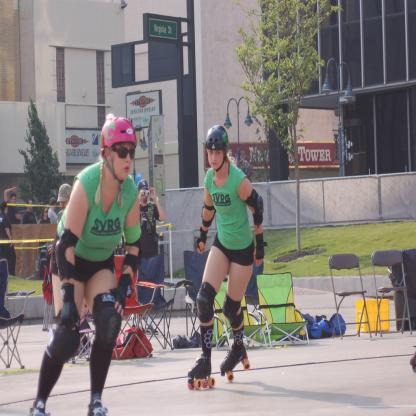Helmet: (96, 117, 137, 189), (206, 126, 229, 173)
